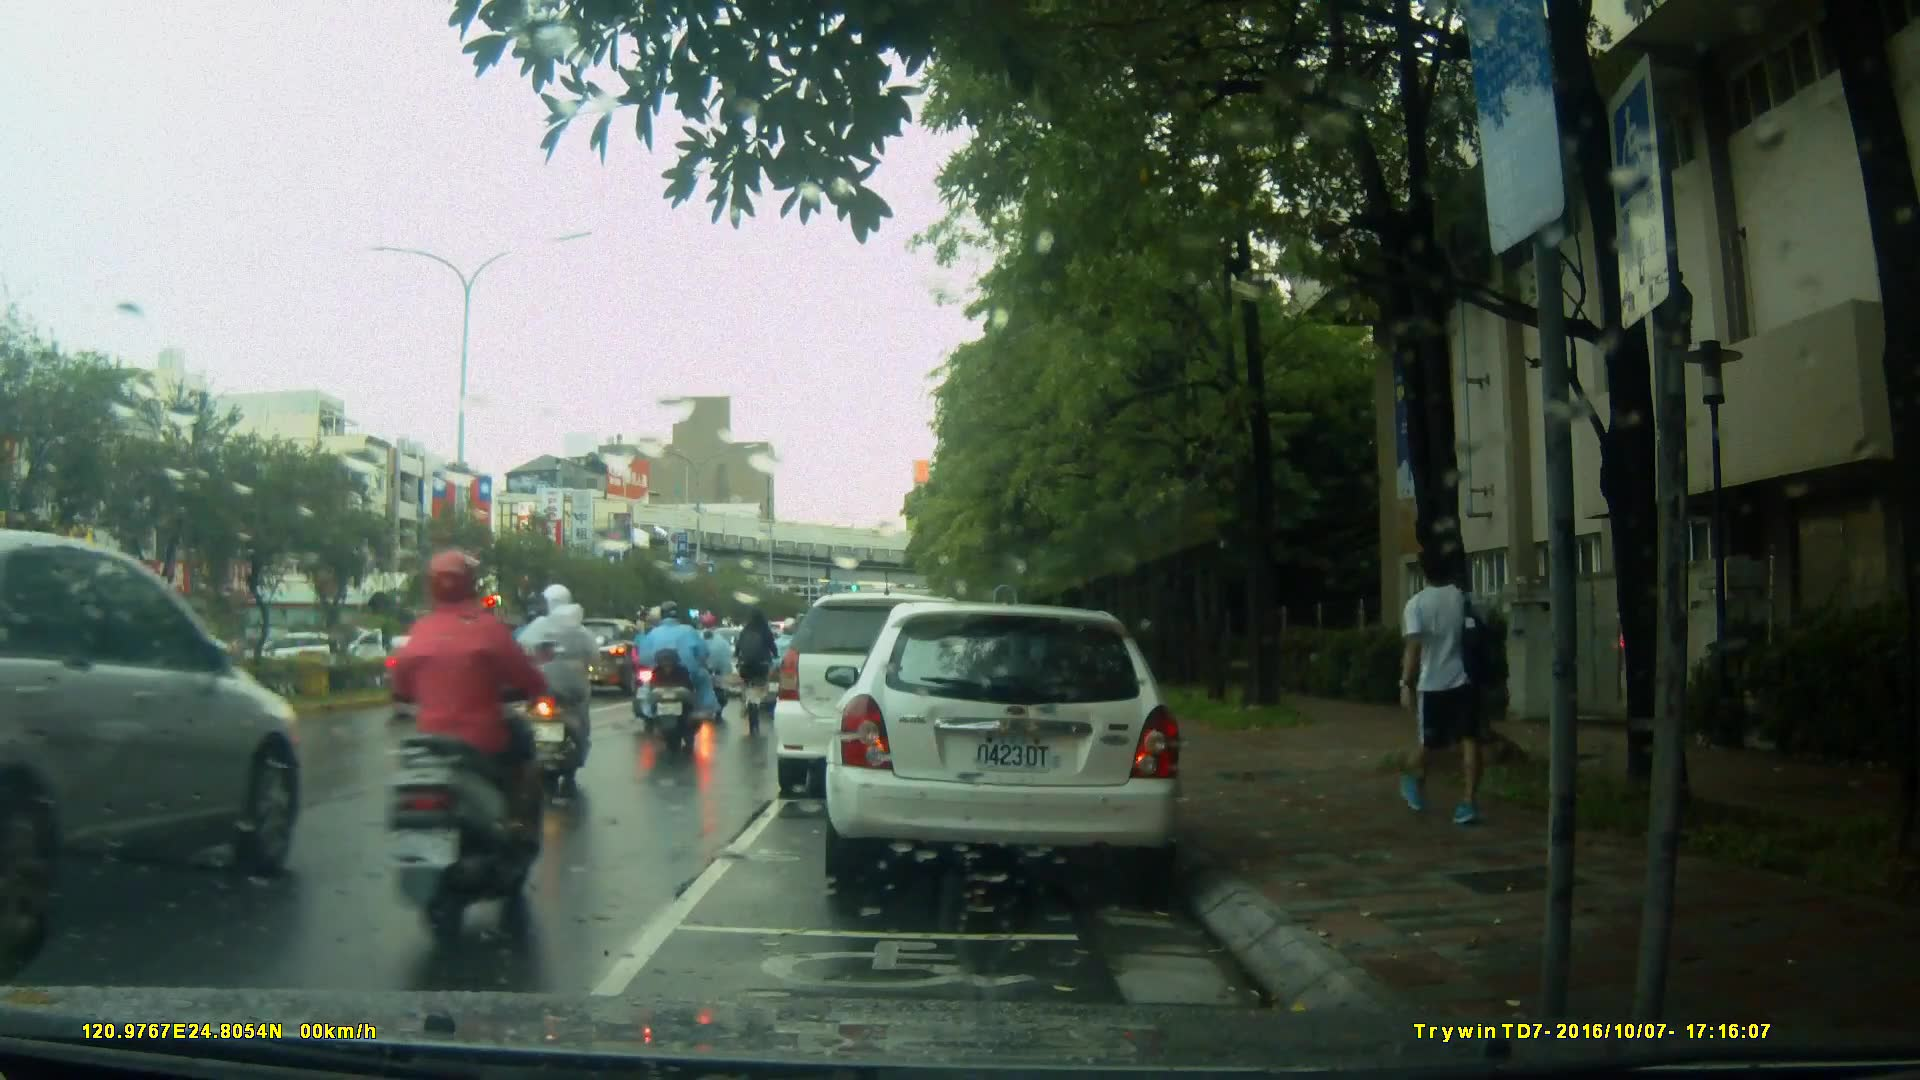pedestrian: (1402, 527, 1508, 852)
rider: (377, 539, 561, 978), (506, 586, 598, 796), (641, 605, 710, 754), (739, 605, 785, 750), (686, 608, 738, 716)
vehicle: (1, 531, 305, 950), (822, 604, 1188, 882), (774, 595, 995, 802), (380, 620, 534, 721)
